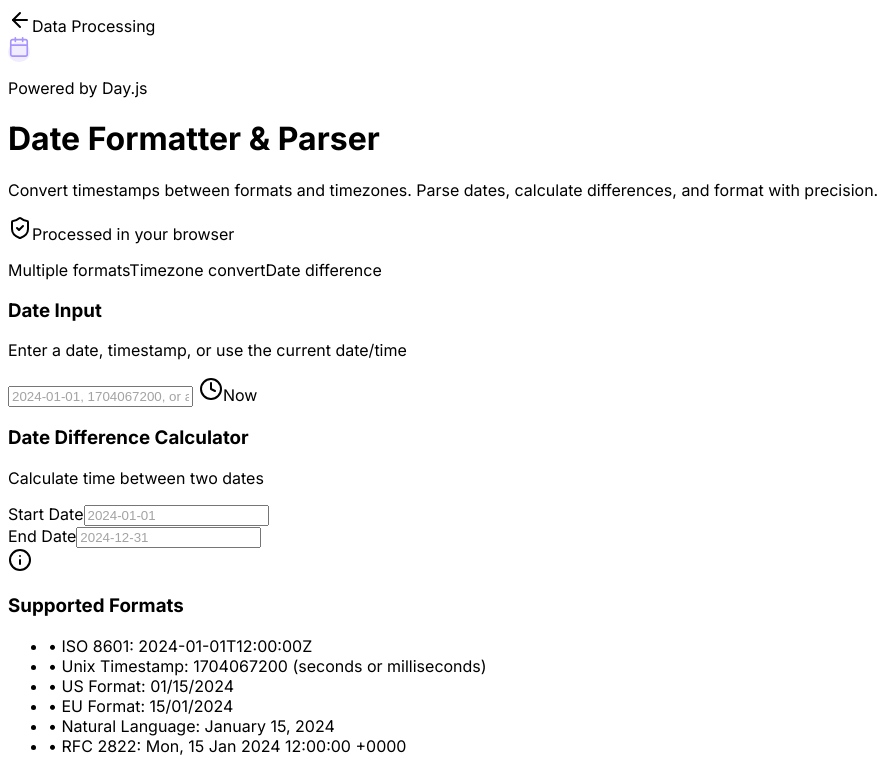
Test: Date Formatter Page › Date Input and Parsing › shows valid date badge when date is parsed successfully
Type "2024-01-15T12:00:00Z" into the field with placeholder "2024-01-01, 1704067200, or any date format..." at point(100, 397), box [8,386,193,407]
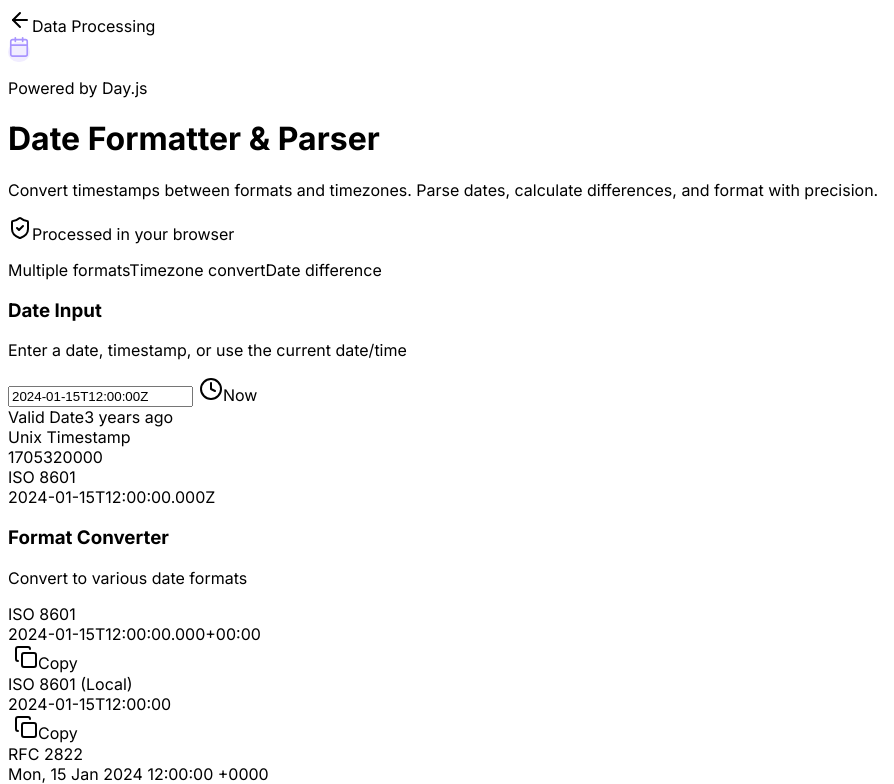
Now the text "Valid Date" is shown, box [8,407,84,427]
